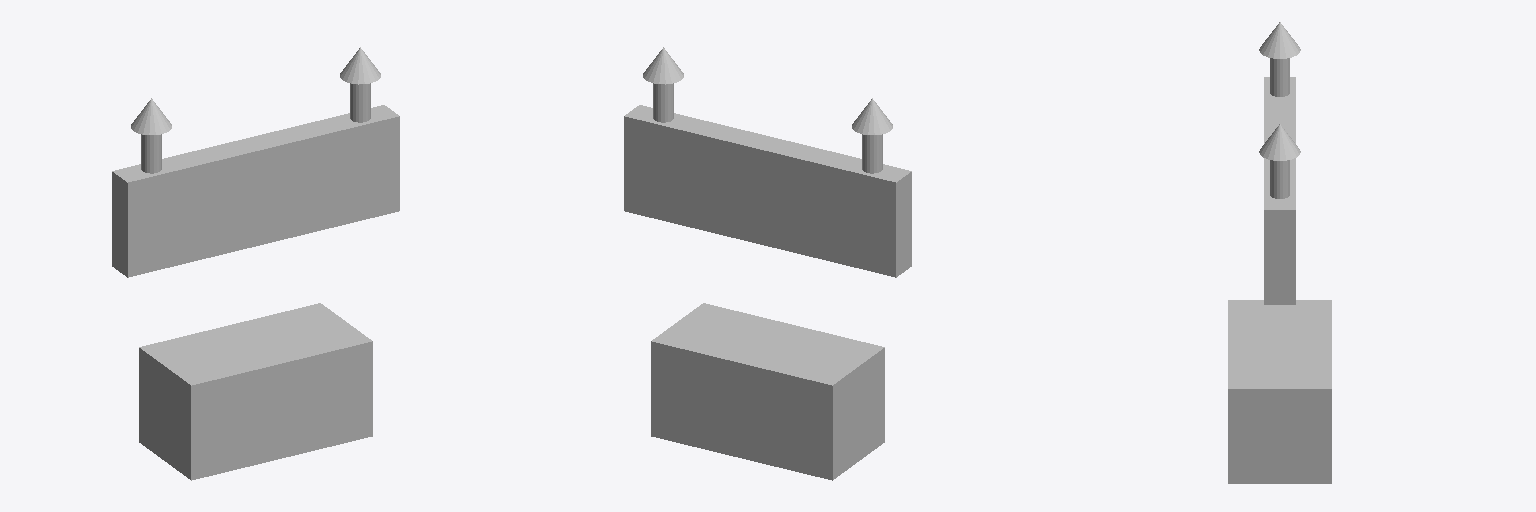
Rendered from FinishLine.obj.
3 views of the same model, side by side, from view 1: azimuth 30°, elevation 25°; view 2: azimuth 150°, elevation 25°; view 3: azimuth 270°, elevation 25° (orthographic).
Visible parts, largest first — view 1: pCylinder3; view 2: pCylinder3; view 3: pCylinder3.
Boxes of the visible parts, x1,y1,x2,y2 form: pCylinder3: [112, 47, 399, 480]; pCylinder3: [624, 47, 911, 480]; pCylinder3: [1228, 22, 1331, 483].
Size of the model in its own units: 3 by 3.86 by 1.